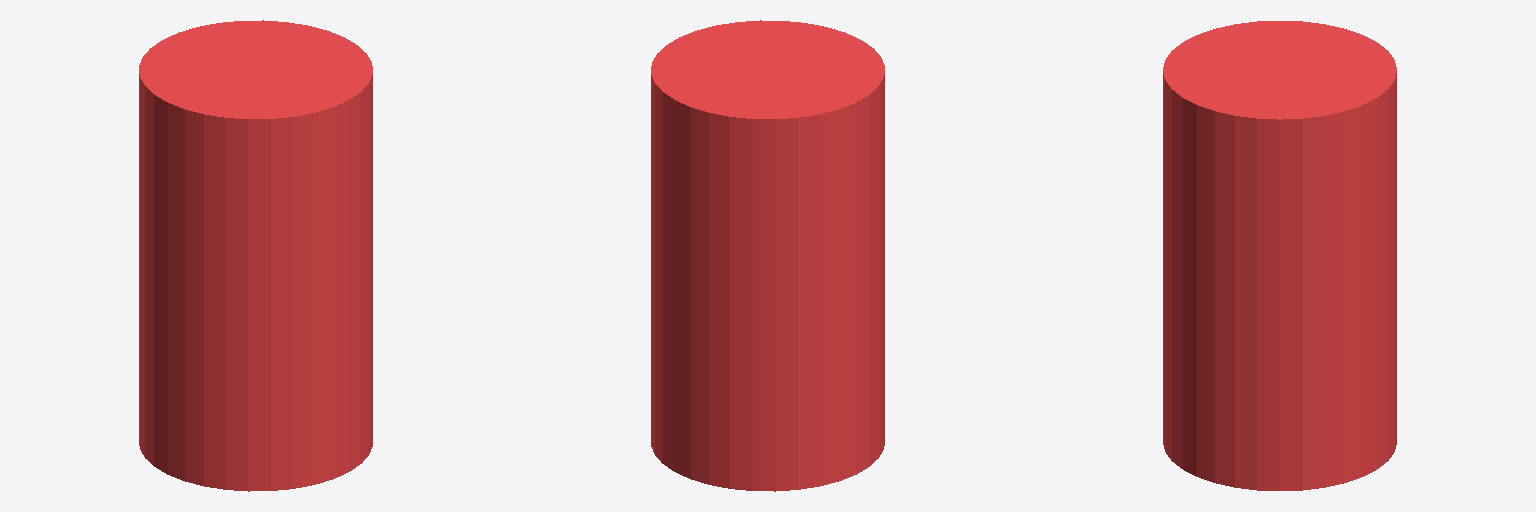
URDF robot description (cylinder.urdf):
<?xml version="1.0" encoding="UTF-8"?>

<robot name="cylinder.urdf">
  <link name="baseLink">
    <contact>
      <lateral_friction value="1.0"/>
      <rolling_friction value="0.0001"/>
      <inertia_scaling value="3.0"/>
    </contact>
    <inertial>
      <origin rpy="0 0 0" xyz="0.035 0 0"/>
       <mass value="0.1"/>
       <inertia ixx="1" ixy="0" ixz="0" iyy="1" iyz="0" izz="1"/>
    </inertial>
    <visual>
      <origin rpy="0 0 0" xyz="0.01 0 0"/>
      <geometry>
        <cylinder length="0.07" radius="0.02"/>
      </geometry>
      <material name="red">
        <color rgba="1 0.3412 0.3490 1"/>
      </material>
    </visual>
    <collision>
      <origin rpy="0 0 0" xyz="0.01 0 0"/>
      <geometry>
	 	    <cylinder length="0.07" radius="0.02"/>
      </geometry>
    </collision>
  </link>
</robot>

--- What the picture shows (computed from the rendered views, not written in the file) ---
3 views of the same robot in one strip: view 1: azimuth 30°, elevation 25°; view 2: azimuth 150°, elevation 25°; view 3: azimuth 270°, elevation 25° (orthographic).
Model cylinder.urdf with 1 links and 0 joints (none), rooted at baseLink, posed all joints at 0.
Links seen in each view (by area): view 1: baseLink; view 2: baseLink; view 3: baseLink.
Boxes of the visible links, x1,y1,x2,y2 form: baseLink: [139, 20, 372, 491]; baseLink: [651, 20, 884, 491]; baseLink: [1163, 21, 1396, 490].
Bounding box of the posed robot: 0.04 × 0.04 × 0.07 m (x, y, z).
Geometry: primitives only (box / cylinder / sphere), no mesh files.